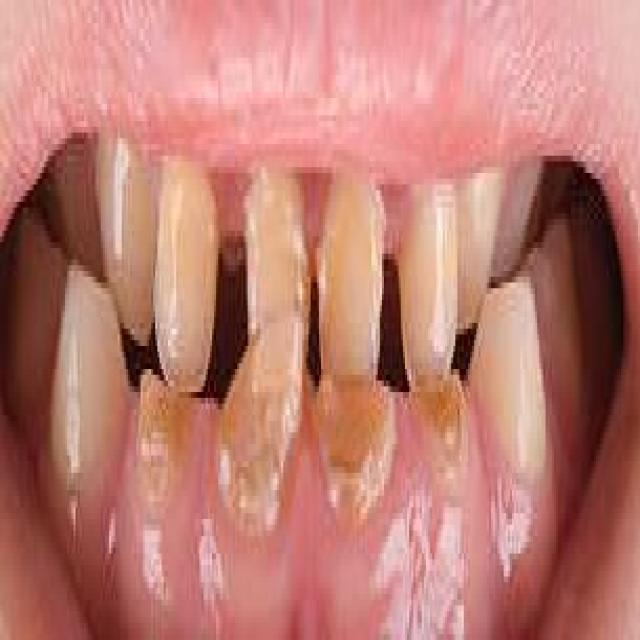caries: (215, 298, 317, 530), (314, 344, 408, 536), (130, 371, 200, 526), (424, 350, 482, 480)
